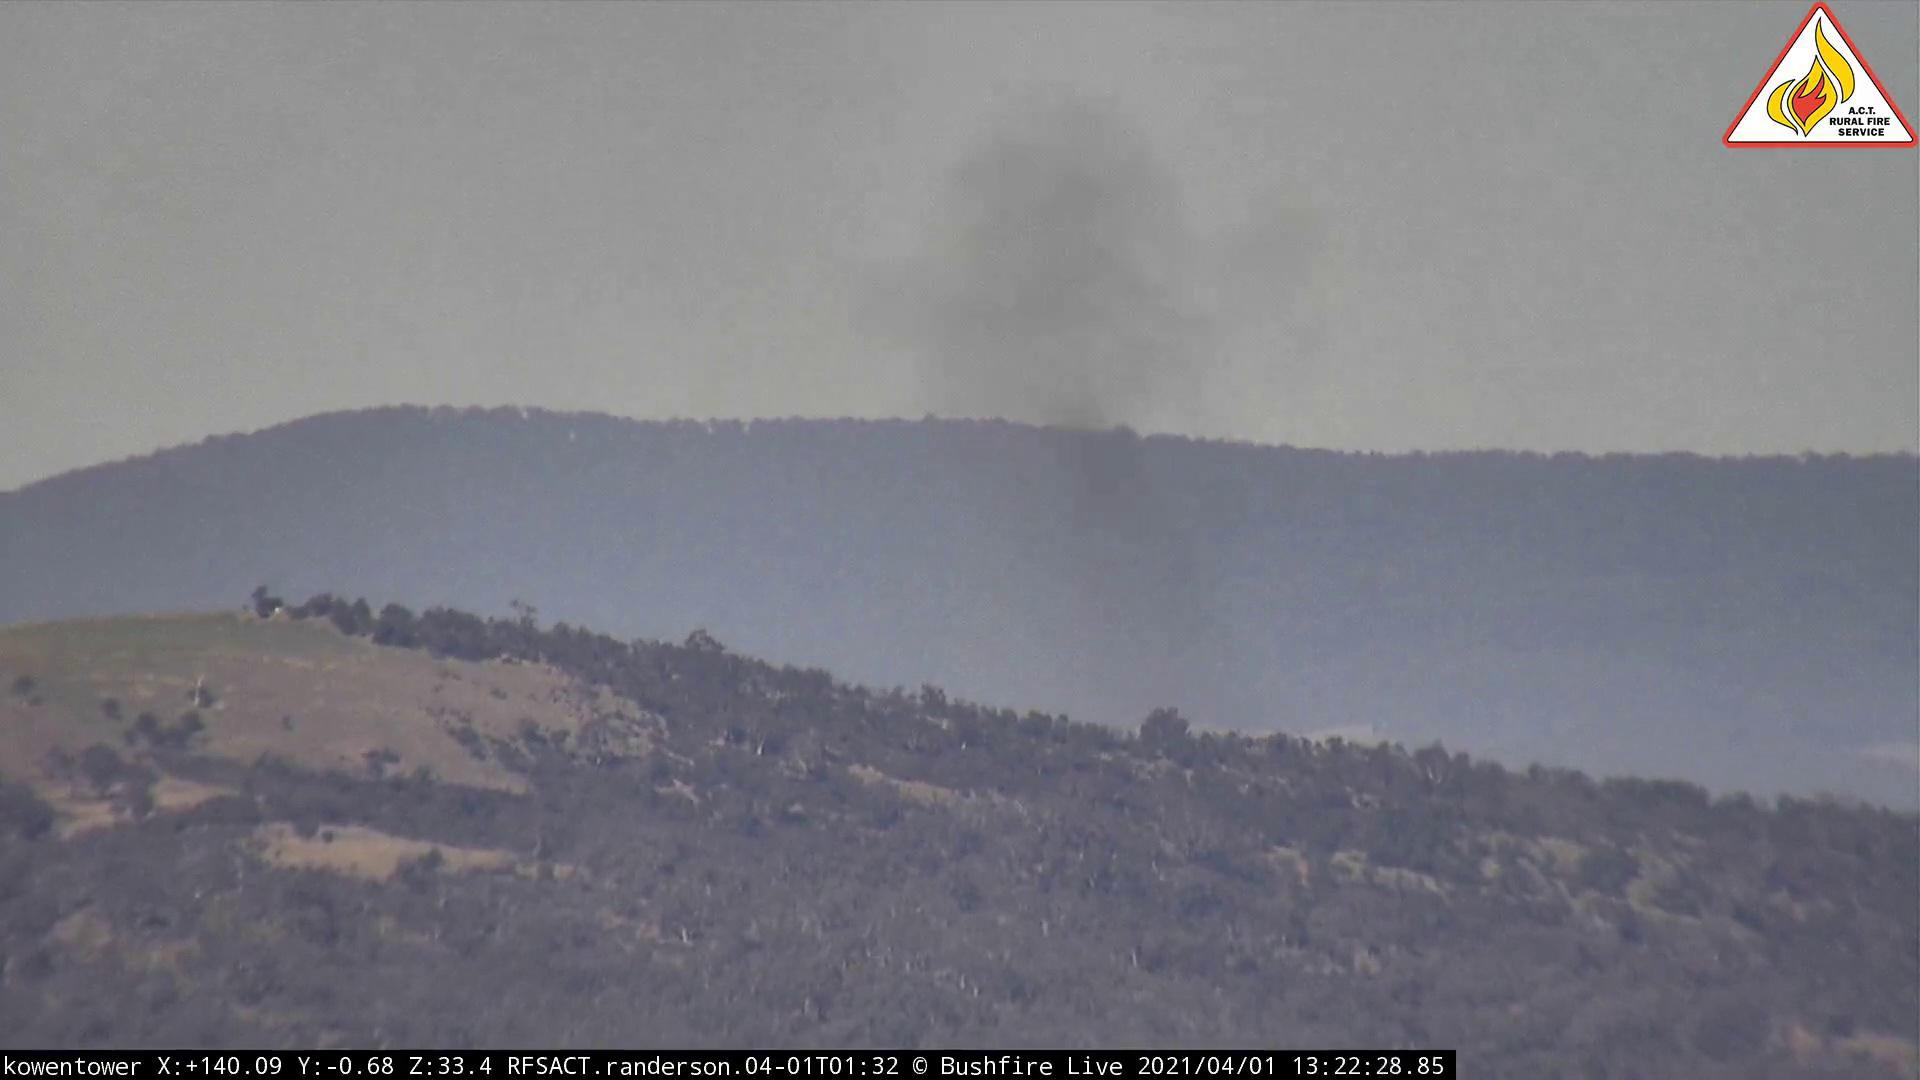Smoke: (754, 42, 1393, 746)
